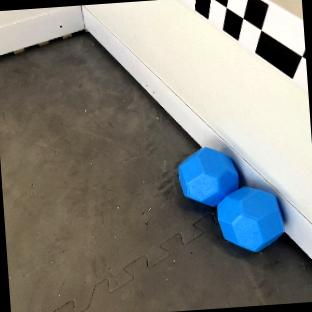V5_BLUE: (217, 187, 284, 251), (178, 147, 238, 204)
